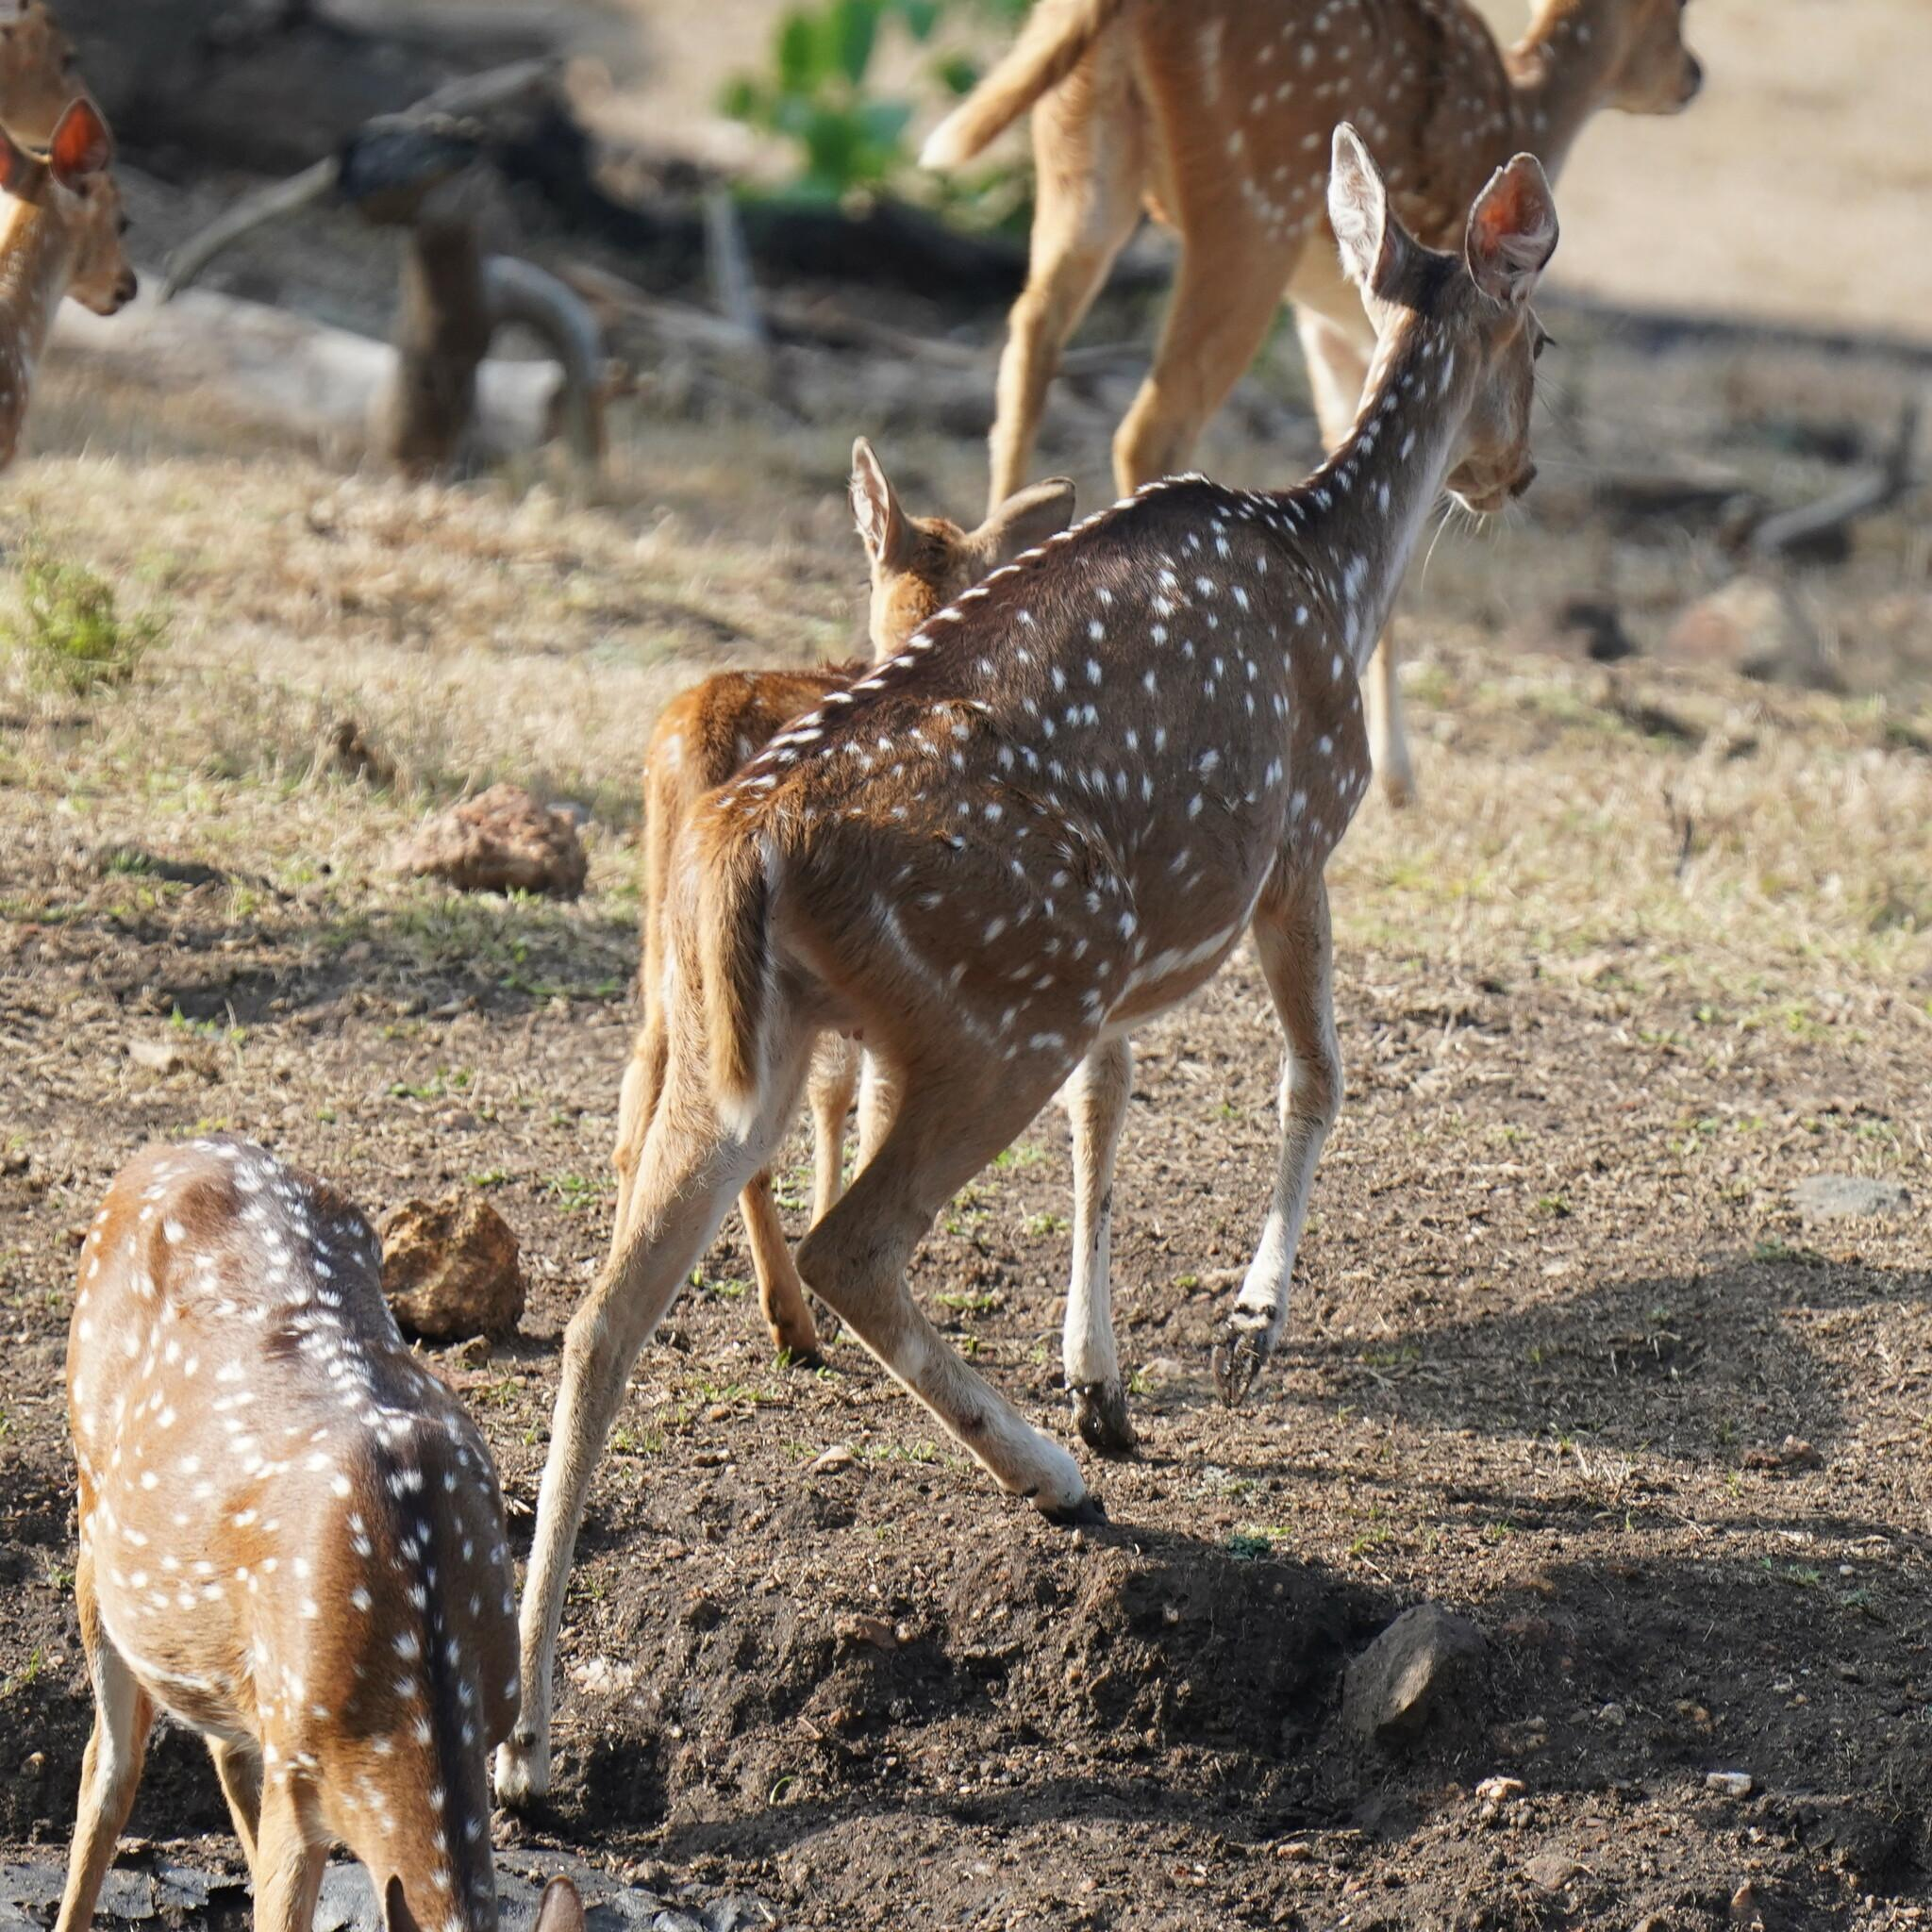Deer: (494, 124, 1557, 1796), (58, 1134, 518, 1930), (0, 97, 136, 471)
